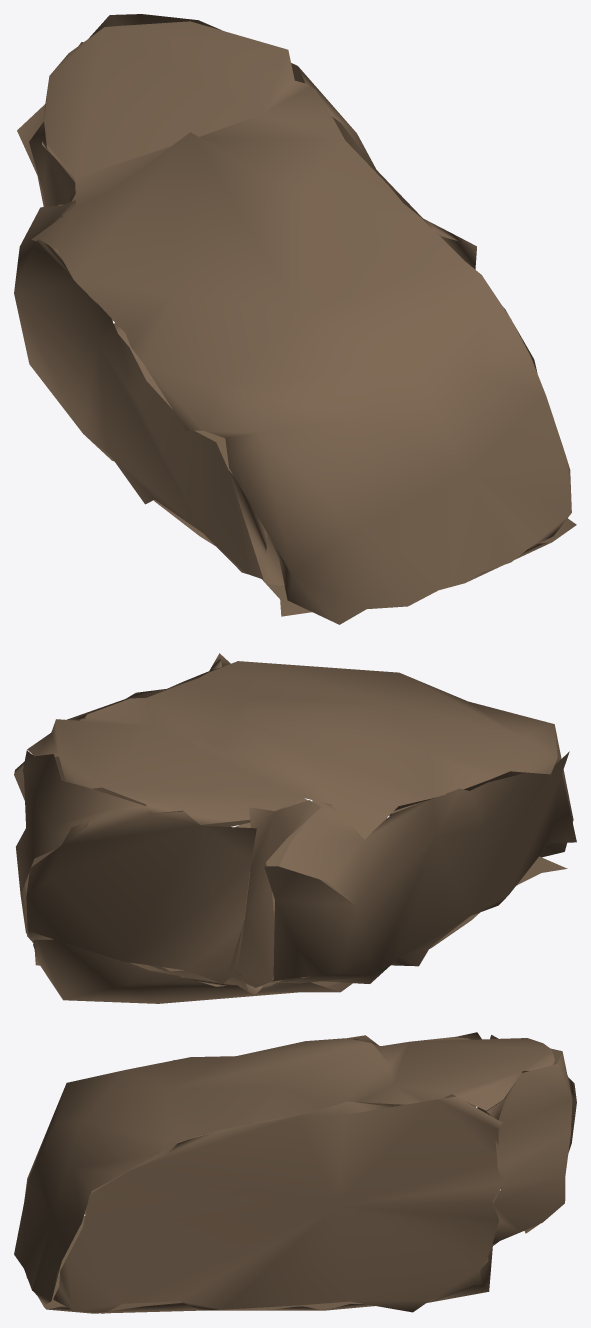
The model's file is rock-granite-lod1.glb.
3 renders of one model, top to bottom at view 1: azimuth 30°, elevation 25°; view 2: azimuth 150°, elevation 25°; view 3: azimuth 270°, elevation 25°, orthographic. The views are drawn at different scales.
Visible parts, largest first — view 1: rock-granite.001; view 2: rock-granite.001; view 3: rock-granite.001.
Part boxes in pixels (box(x1,y1,x2,y2)): rock-granite.001: box(14, 14, 576, 624); rock-granite.001: box(14, 653, 576, 1003); rock-granite.001: box(14, 1032, 576, 1313).
Bounding box in the file's own units: 2.18 × 1.84 × 4.02.
